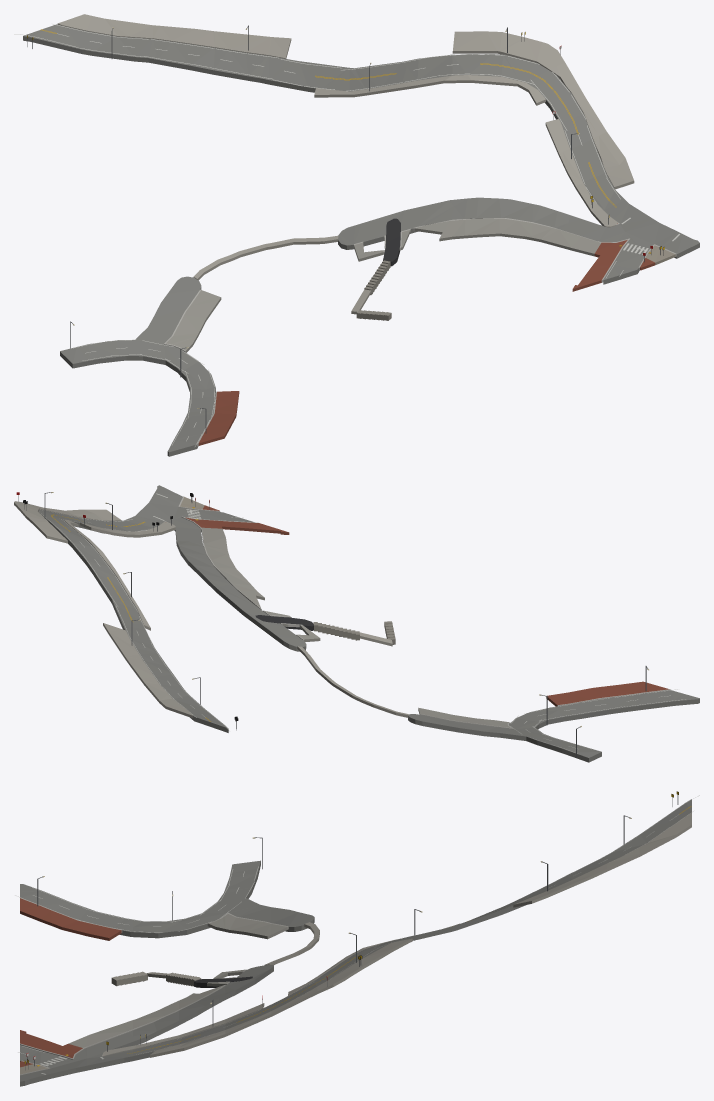
3 views of the same model, one above another, from view 1: azimuth 30°, elevation 25°; view 2: azimuth 150°, elevation 25°; view 3: azimuth 270°, elevation 25° (orthographic). The views are drawn at different scales.
Size of the model in its own units: 147 by 52.25 by 149.
